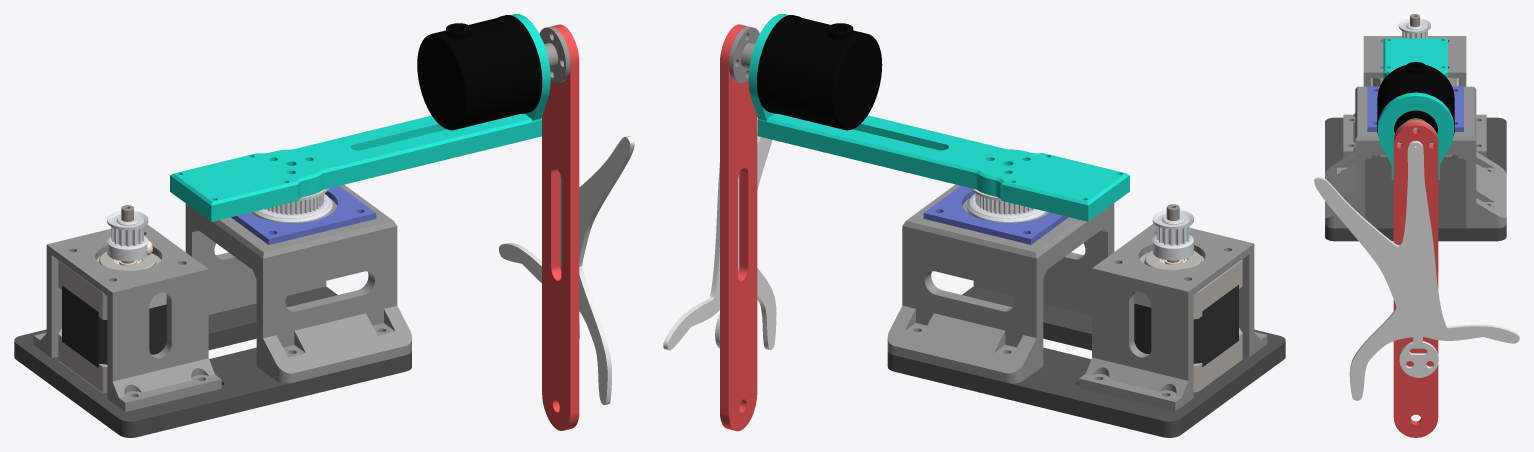
The model's file is raw_gallery.fbx.
The picture shows the model from 3 angles, left to right: view 1: azimuth 30°, elevation 25°; view 2: azimuth 150°, elevation 25°; view 3: azimuth 270°, elevation 25°; orthographic projection. The views are drawn at different scales.
Visible parts, largest first — view 1: Body1 (×14); view 2: Body1 (×14); view 3: Body1 (×9).
Boxes of the visible parts, <box> form: Body1 (×14): <box>14,14,634,437</box>; Body1 (×14): <box>663,14,1285,437</box>; Body1 (×9): <box>1314,18,1519,437</box>.
Size of the model in its own units: 224 by 181 by 102.
